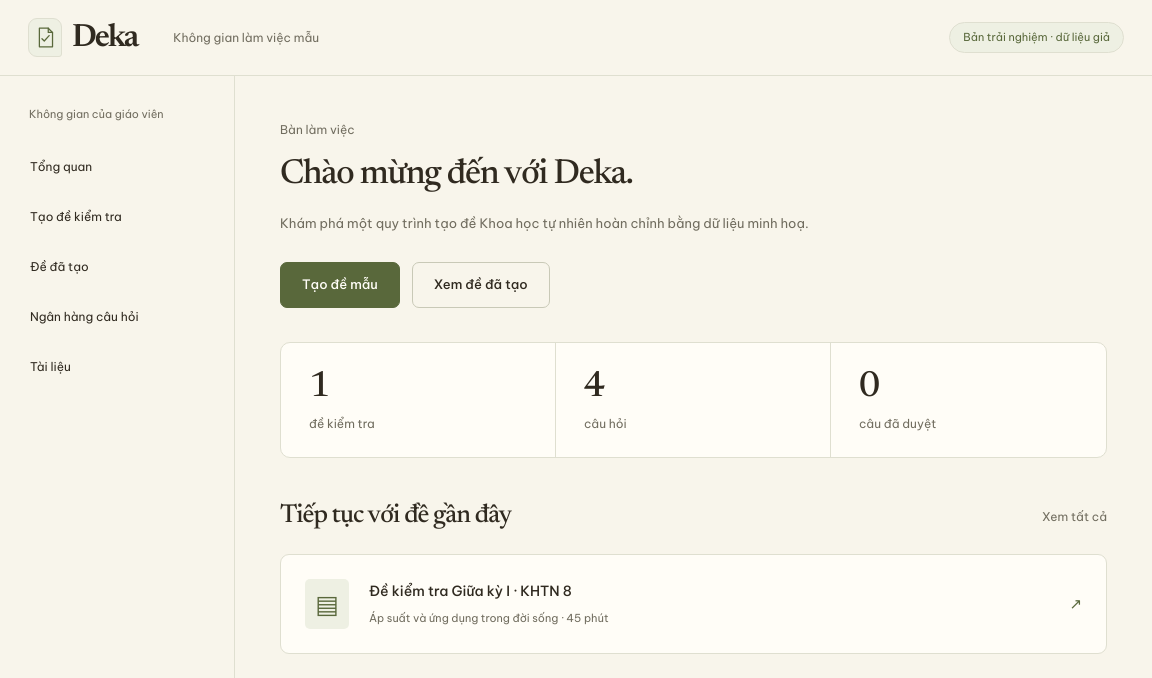
it: public demo edge cases › allows recovery from an unknown route through the dashboard navigation
Check: the heading "Chào mừng đến với Deka." is shown, box top-left (280, 158), bottom-right (632, 192)
Click the link "Tạo đề mẫu": x=340, y=285 top-left (280, 262), bottom-right (400, 308)
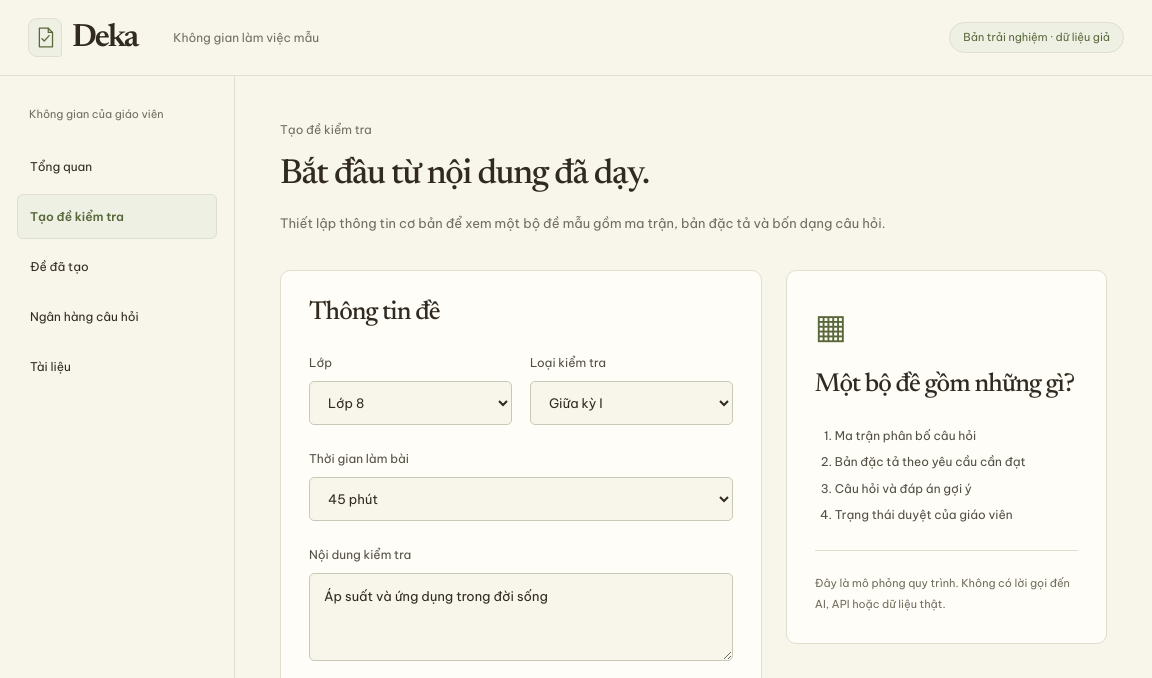
Check: the heading "Bắt đầu từ nội dung đã dạy." is shown, box top-left (280, 158), bottom-right (649, 192)
